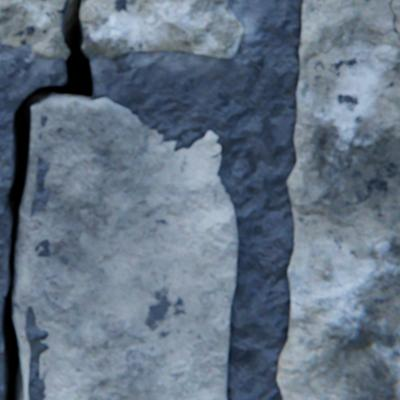brick: (16, 98, 237, 399), (276, 0, 399, 399)
broken_brick: (79, 0, 242, 58), (0, 0, 69, 59)
crack: (0, 0, 93, 399), (389, 7, 399, 39)
